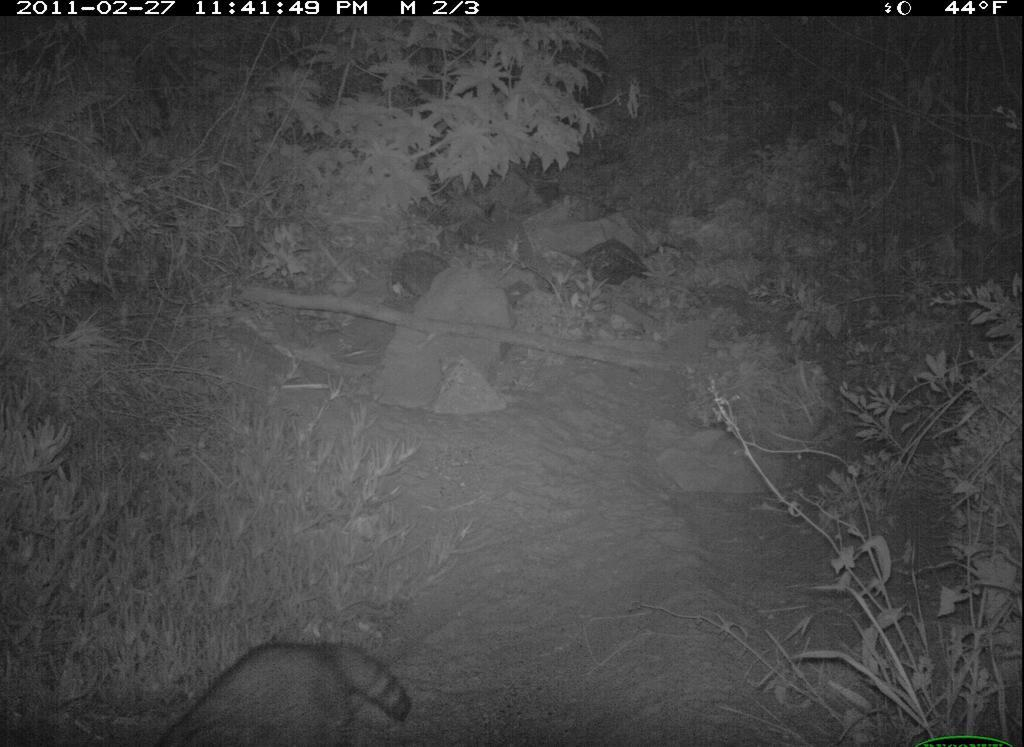raccoon: (144, 623, 425, 747)
